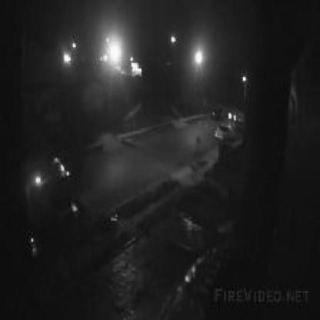other: (86, 32, 126, 66), (28, 154, 45, 192), (58, 38, 78, 68), (240, 74, 252, 88)
